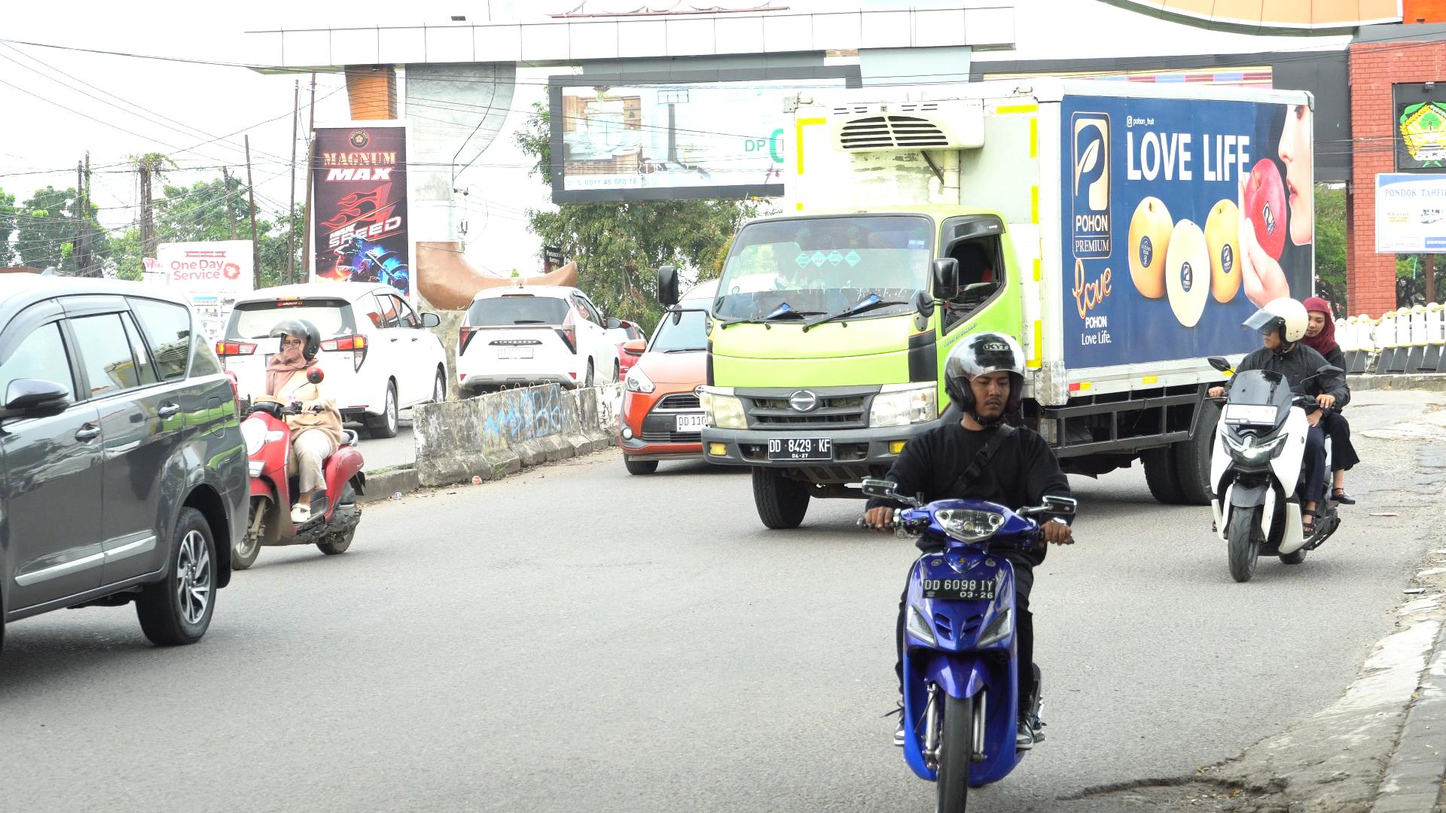number-plate: (920, 569, 1001, 604)
